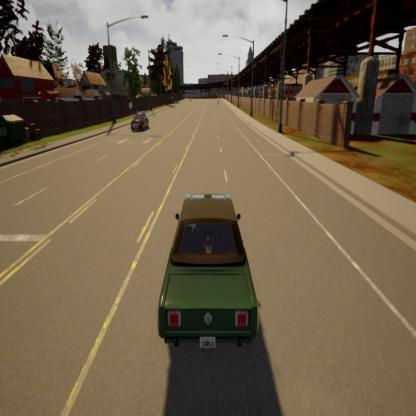Cars: (150, 188, 265, 356), (131, 108, 150, 134)
